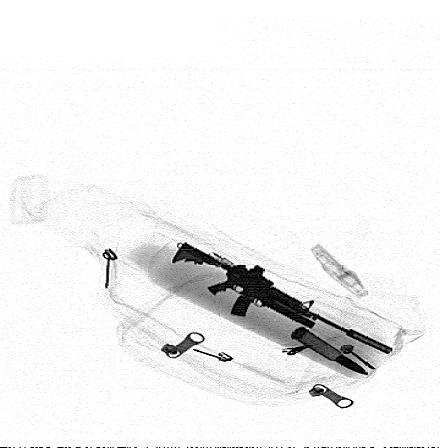Bullet: (289, 327, 369, 376)
Gun: (168, 242, 393, 354)
